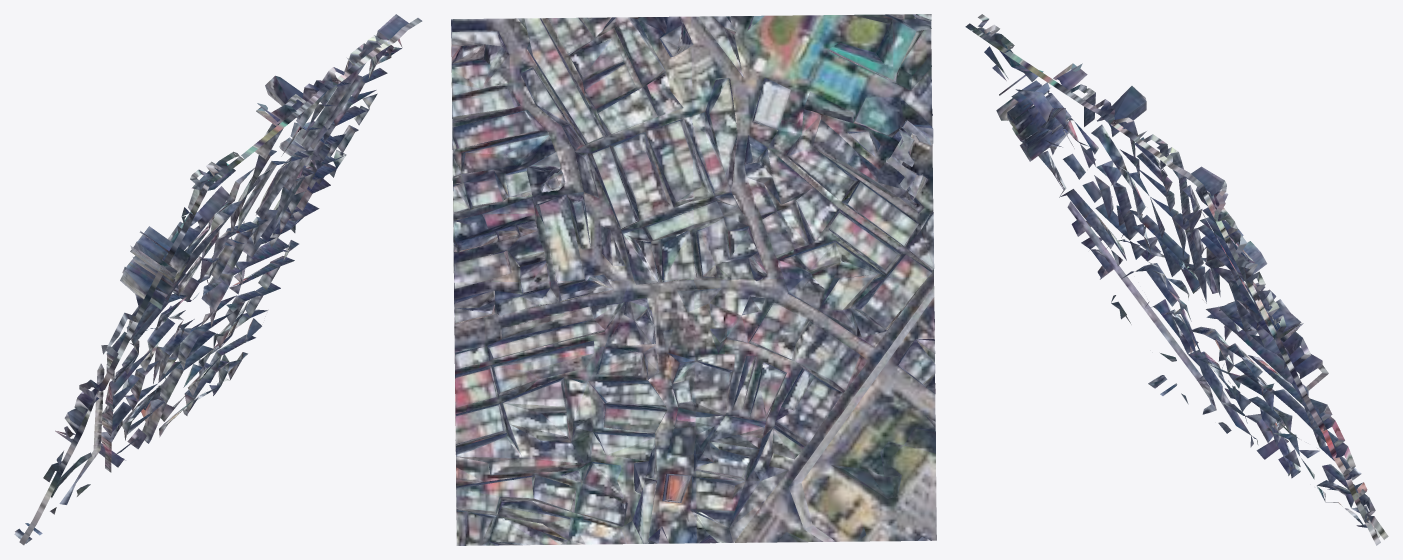
3 views of the same model, side by side, from view 1: azimuth 30°, elevation 25°; view 2: azimuth 150°, elevation 25°; view 3: azimuth 270°, elevation 25° (orthographic). The views are drawn at different scales.
Bounding box in the file's own units: 613 × 574 × 525.
Materials: 1 (1 with a texture image).
